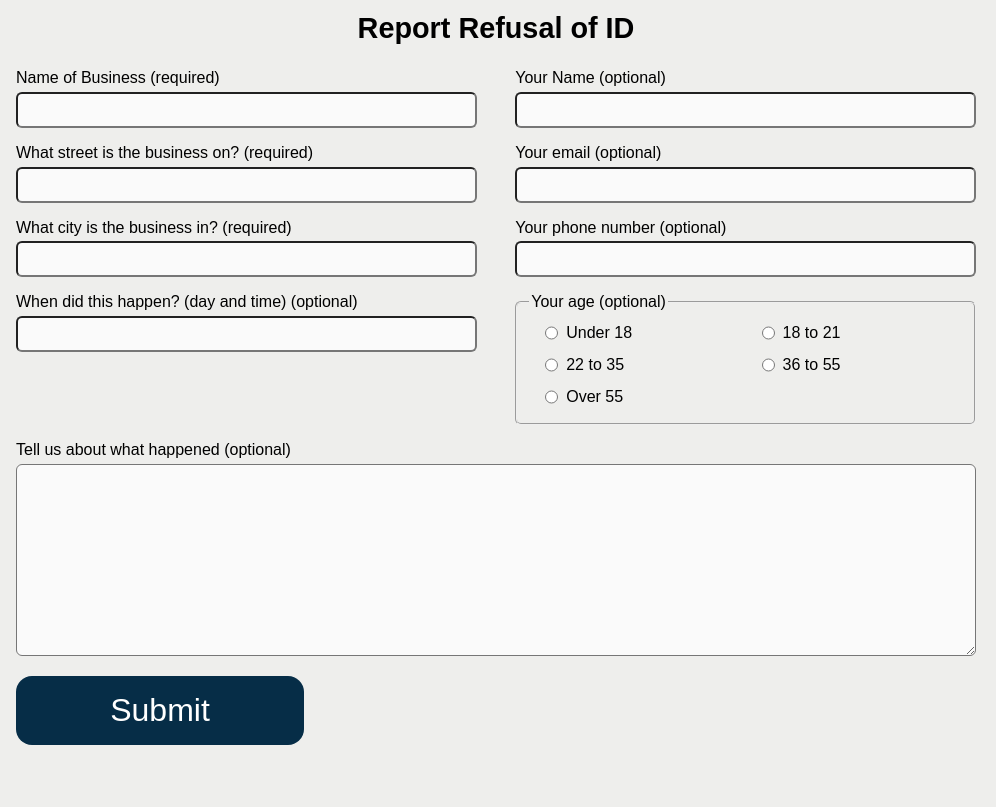
Test: when the form data is invalid › shows error message for email
Type "non-empty value" into the field labelled "Name of Business (required)" at (246, 110), box left=16, top=92, right=477, bottom=128
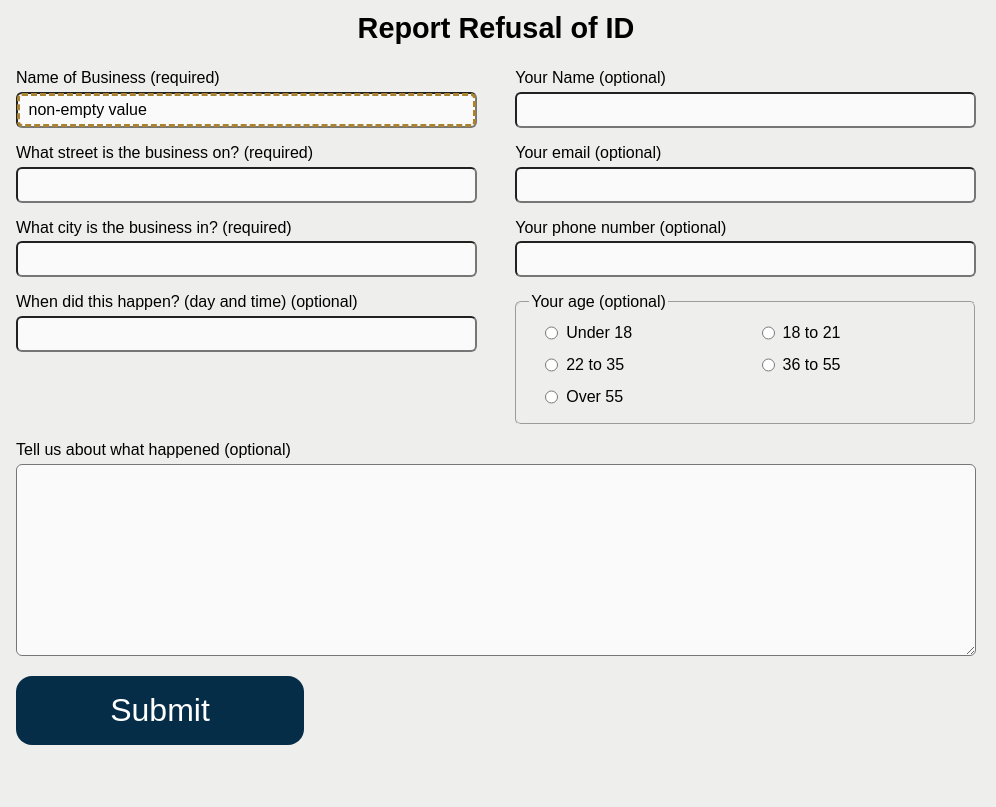
Type "non-empty value" into the field labelled "What street is the business on? (required)" at (246, 185), box left=16, top=167, right=477, bottom=203
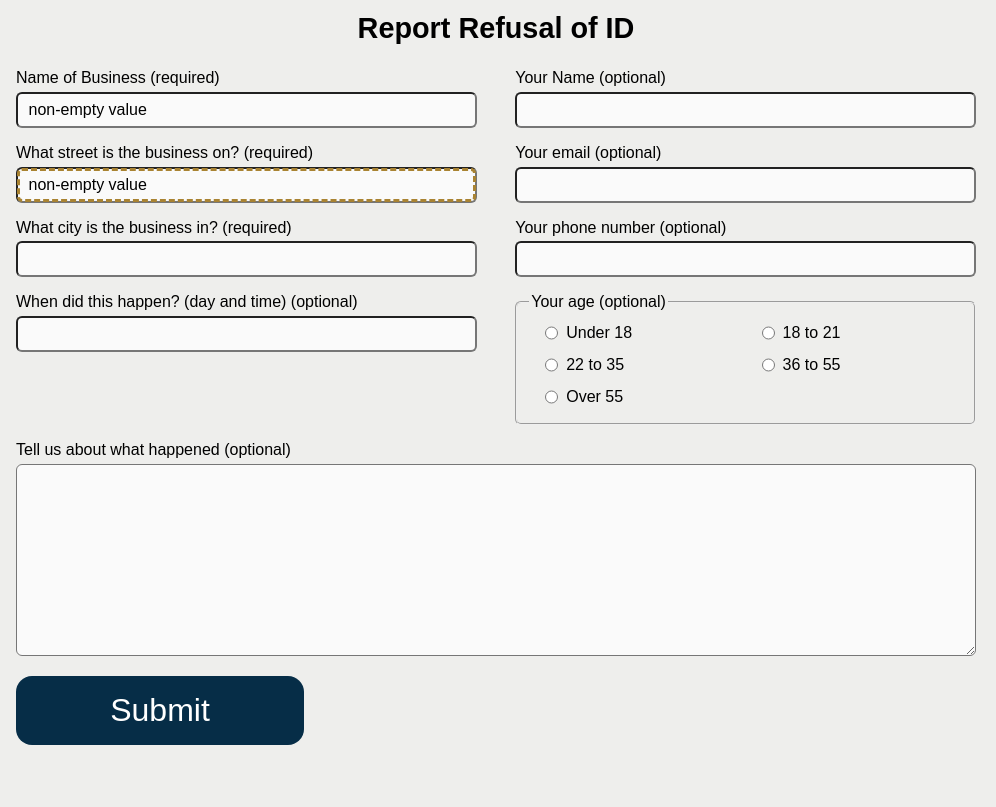
Type "non-empty value" into the field labelled "What city is the business in? (required)" at (246, 259), box left=16, top=241, right=477, bottom=277
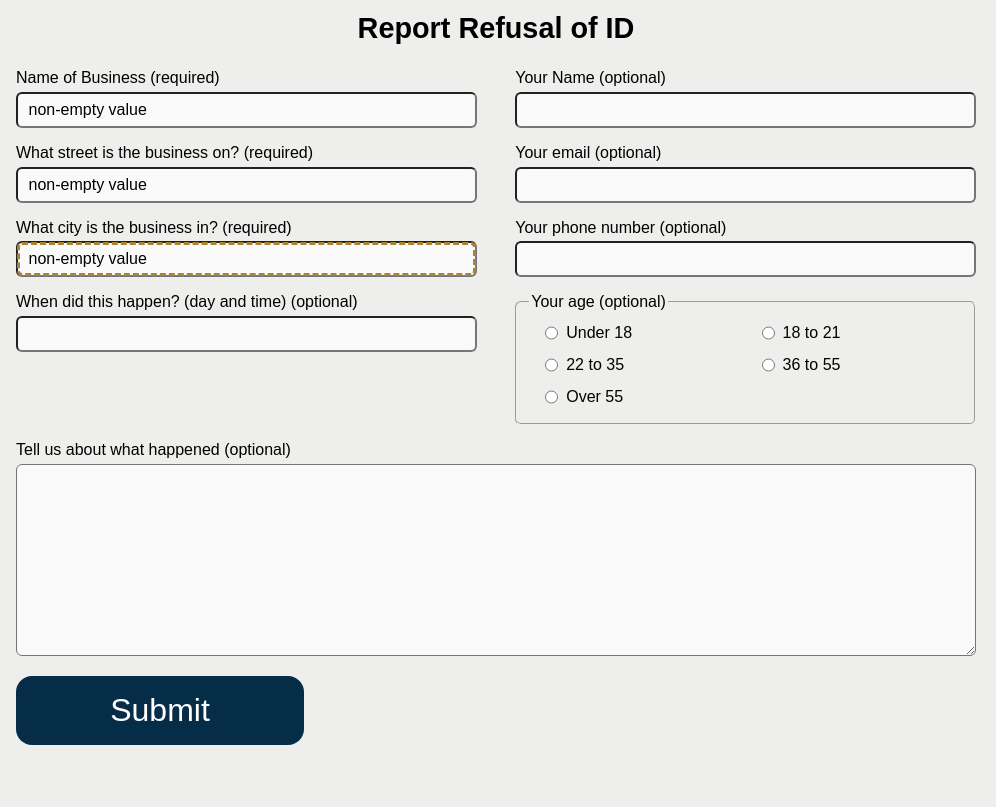
Type "non-empty value" into the text box labelled "Tell us about what happened (optional)" at (496, 560), box left=16, top=464, right=976, bottom=656
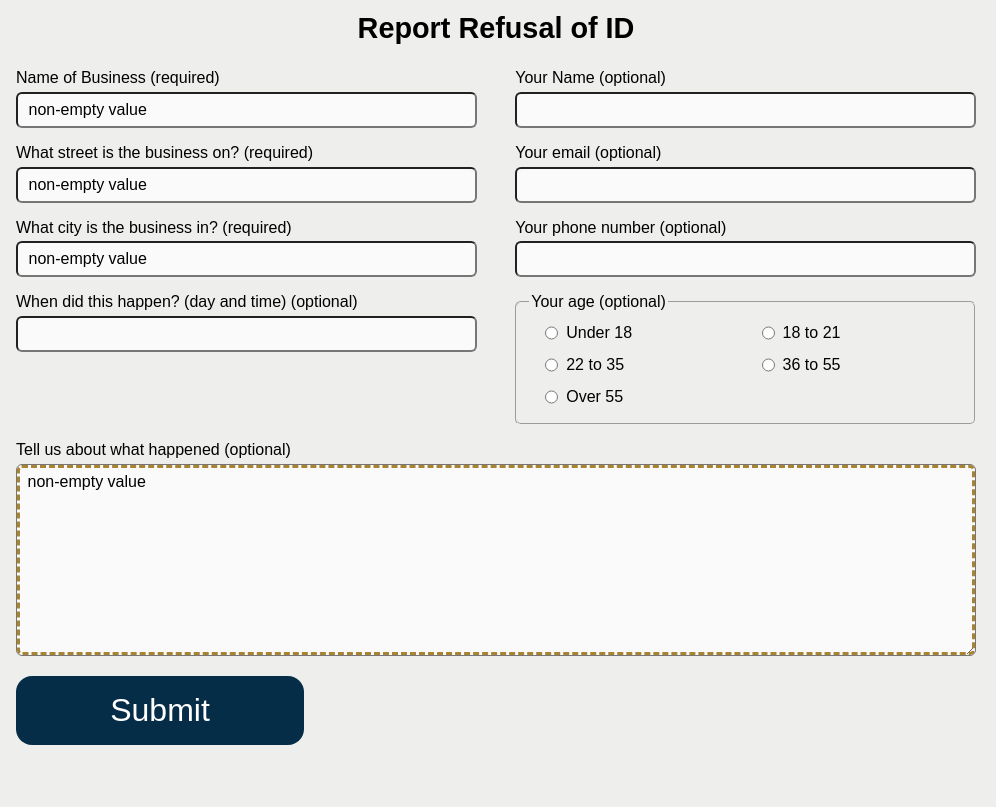
Type "invalid@email" into the field labelled "Your email (optional)" at (746, 185), box left=515, top=167, right=976, bottom=203
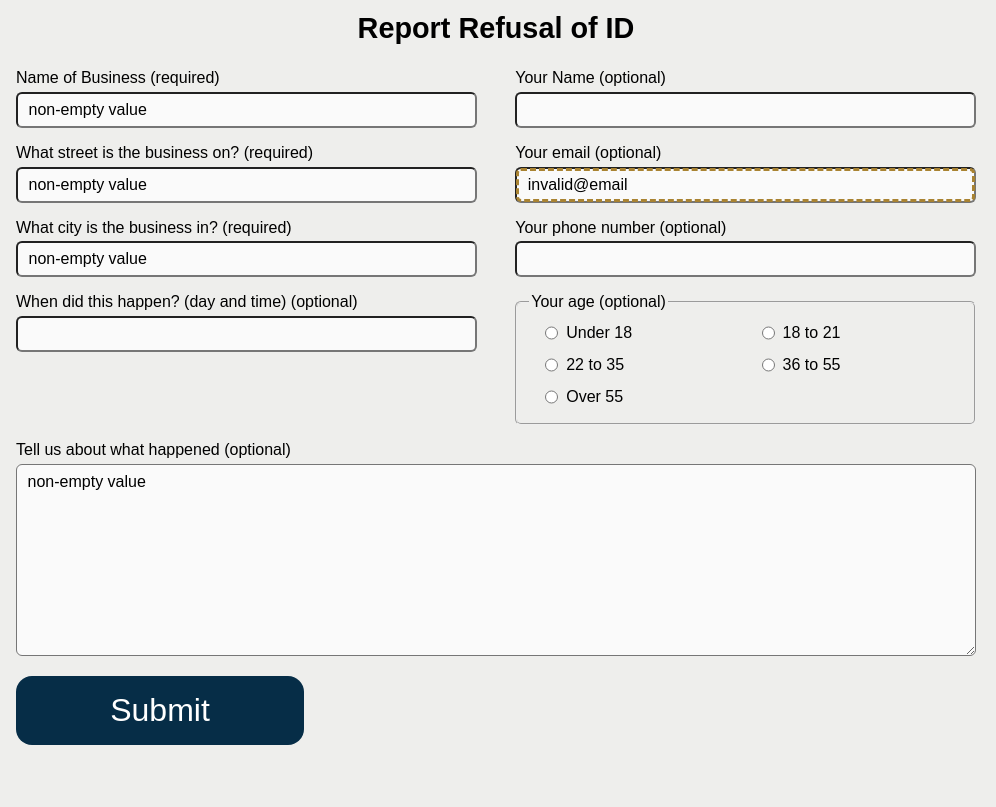
Click the button "Submit" at (160, 710), box left=16, top=676, right=304, bottom=745
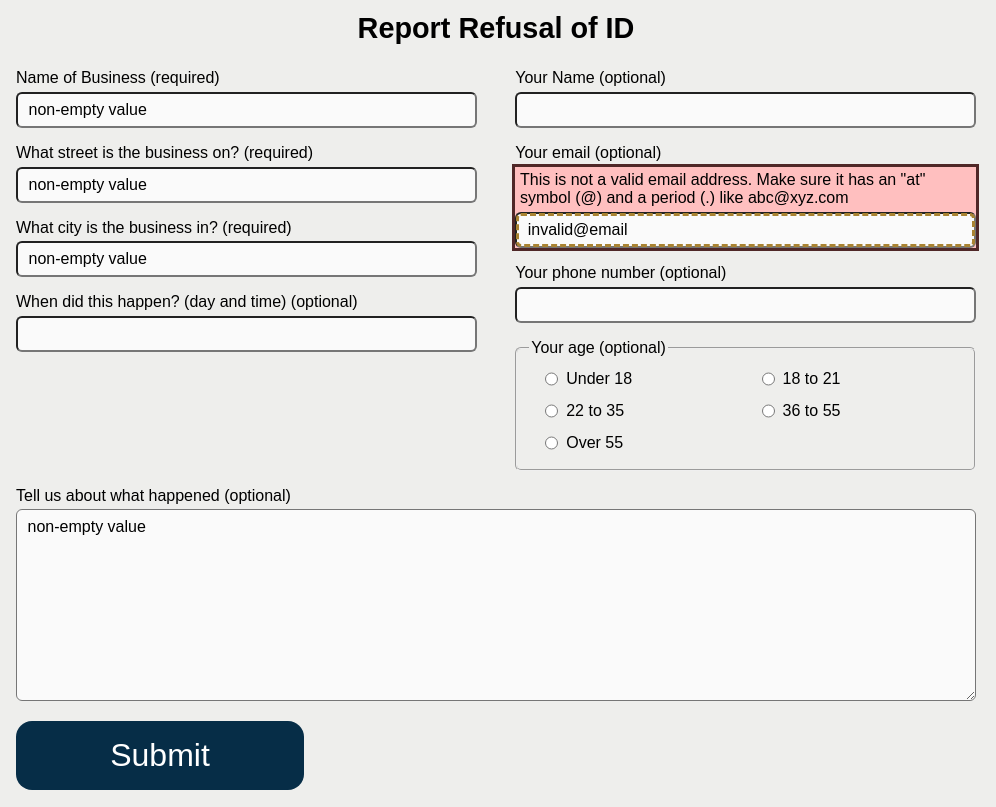
expect the text "This is not a valid email address. Make sure it has an \"at\" symbol (@) and a period (.) like abc@xyz.com" is shown: met, box left=520, top=171, right=925, bottom=206
